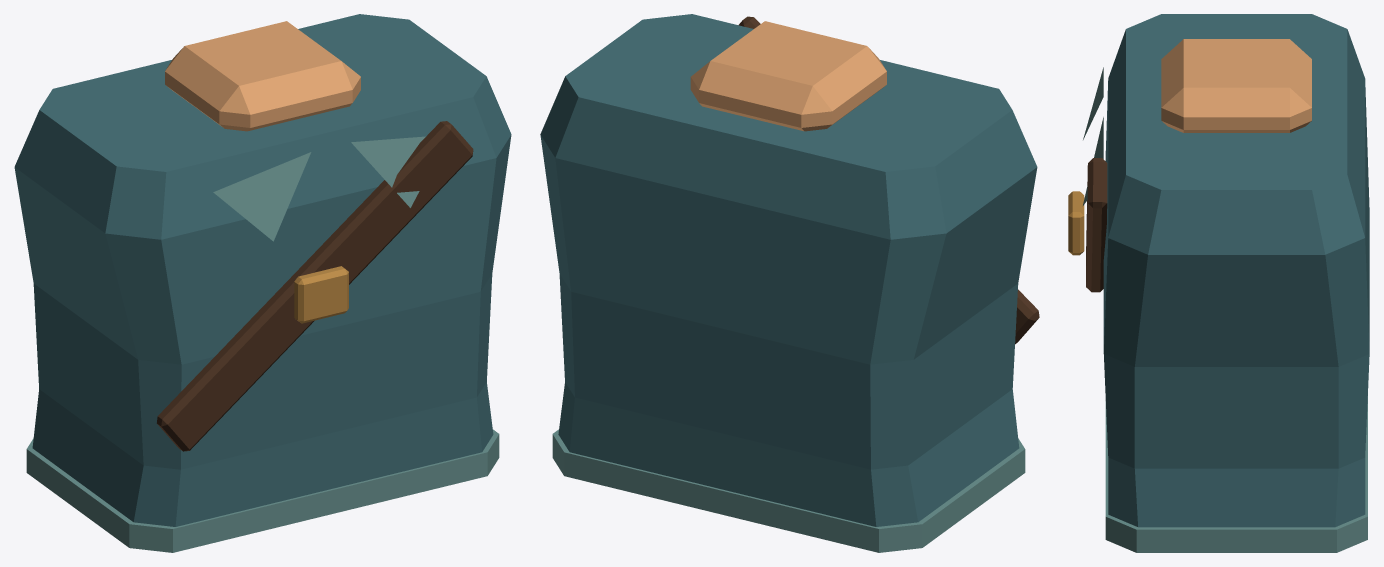
The model's file is SM_NPC_Torso_01_Tunic.glb.
3 renders of one model, left to right at view 1: azimuth 30°, elevation 25°; view 2: azimuth 150°, elevation 25°; view 3: azimuth 270°, elevation 25°, orthographic. The views are drawn at different scales.
Parts seen in each view (by area): view 1: SM_NPC_Torso_01_Tunic; view 2: SM_NPC_Torso_01_Tunic; view 3: SM_NPC_Torso_01_Tunic.
Part boxes in pixels (left/top/right/bottom): SM_NPC_Torso_01_Tunic: left=14, top=14, right=511, bottom=552; SM_NPC_Torso_01_Tunic: left=540, top=14, right=1039, bottom=552; SM_NPC_Torso_01_Tunic: left=1068, top=14, right=1369, bottom=552.
Size of the model in its own units: 0.516 by 0.5 by 0.34.
